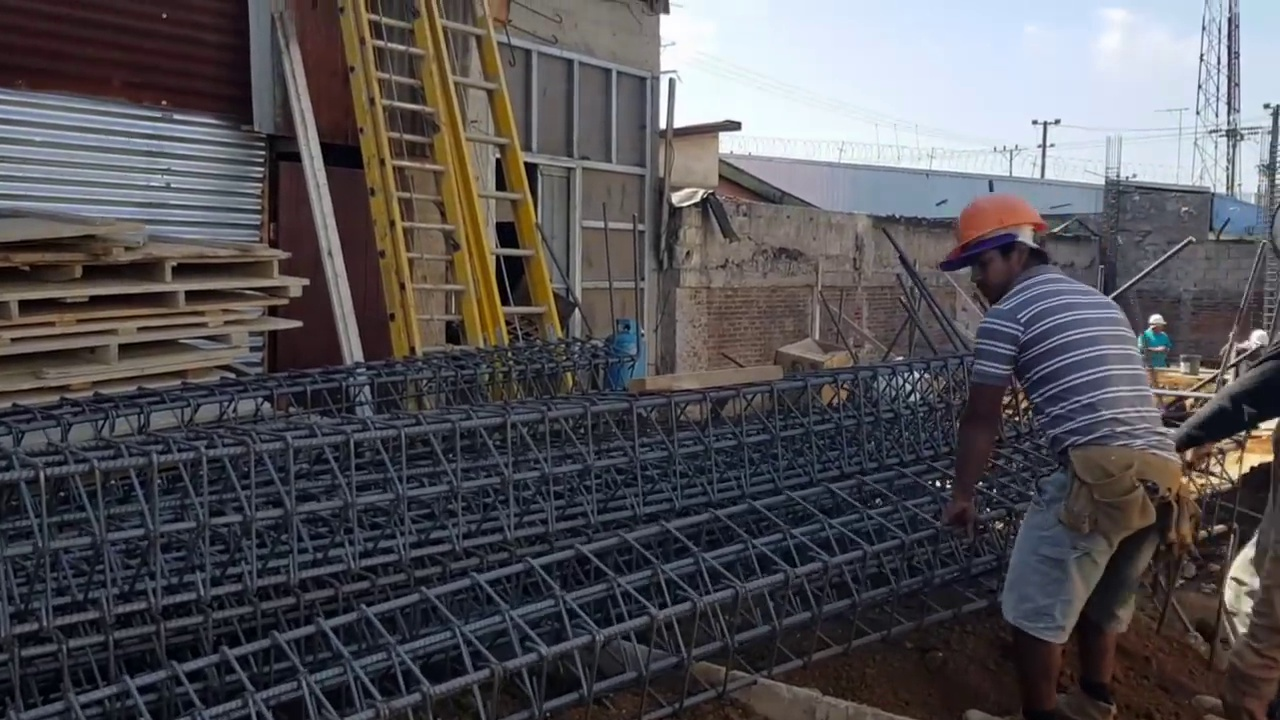helmet: (945, 194, 1056, 273), (1250, 329, 1269, 346), (1147, 315, 1167, 325)
helmet-on: (947, 195, 1063, 306), (1245, 327, 1269, 354), (1148, 315, 1167, 338)
person: (927, 191, 1186, 712), (1218, 325, 1269, 386), (1137, 313, 1171, 369)
